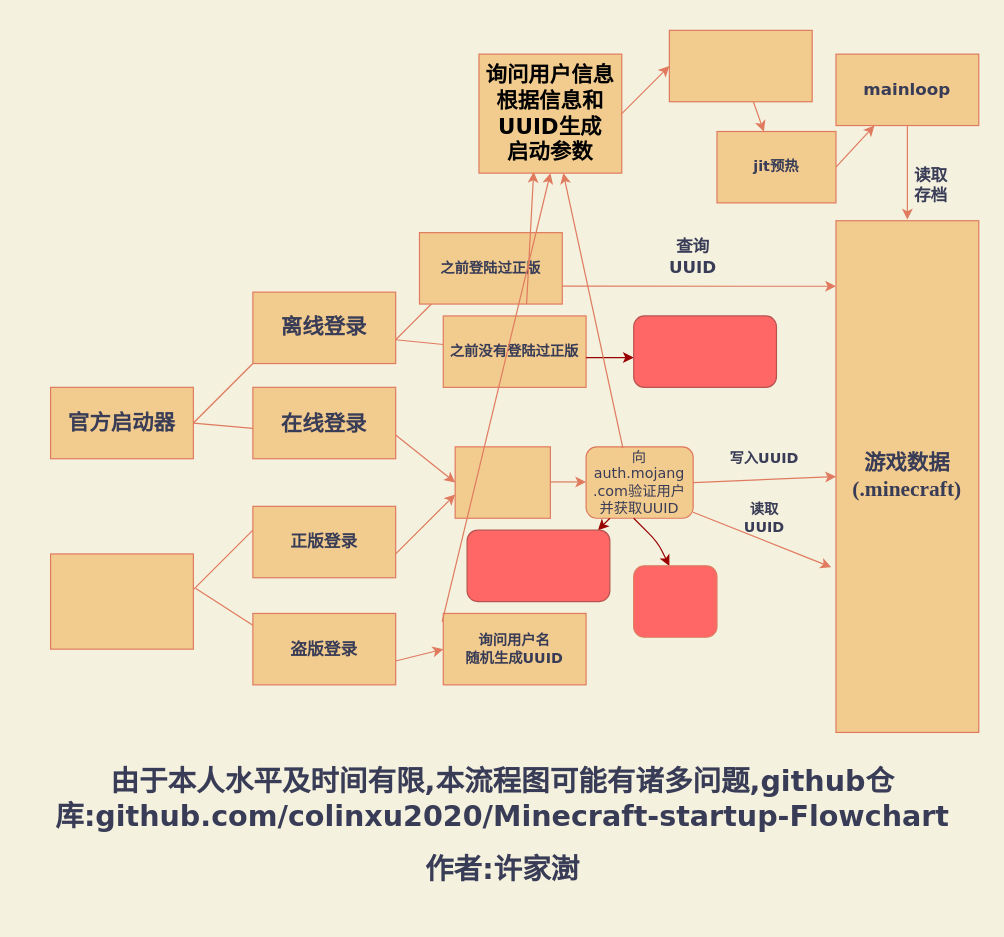
This 1004x937 diagram has some shape labels left out. Each missing label, with the centre of its shape:
authlib: the point at 502,482
javaw 启动游戏: the point at 740,65
用户不存在或密码不匹配: the point at 538,565
登录失败: the point at 704,351
第三方启动器 （HMCL,BMCL等等): the point at 121,601
网络错误: the point at 674,601
